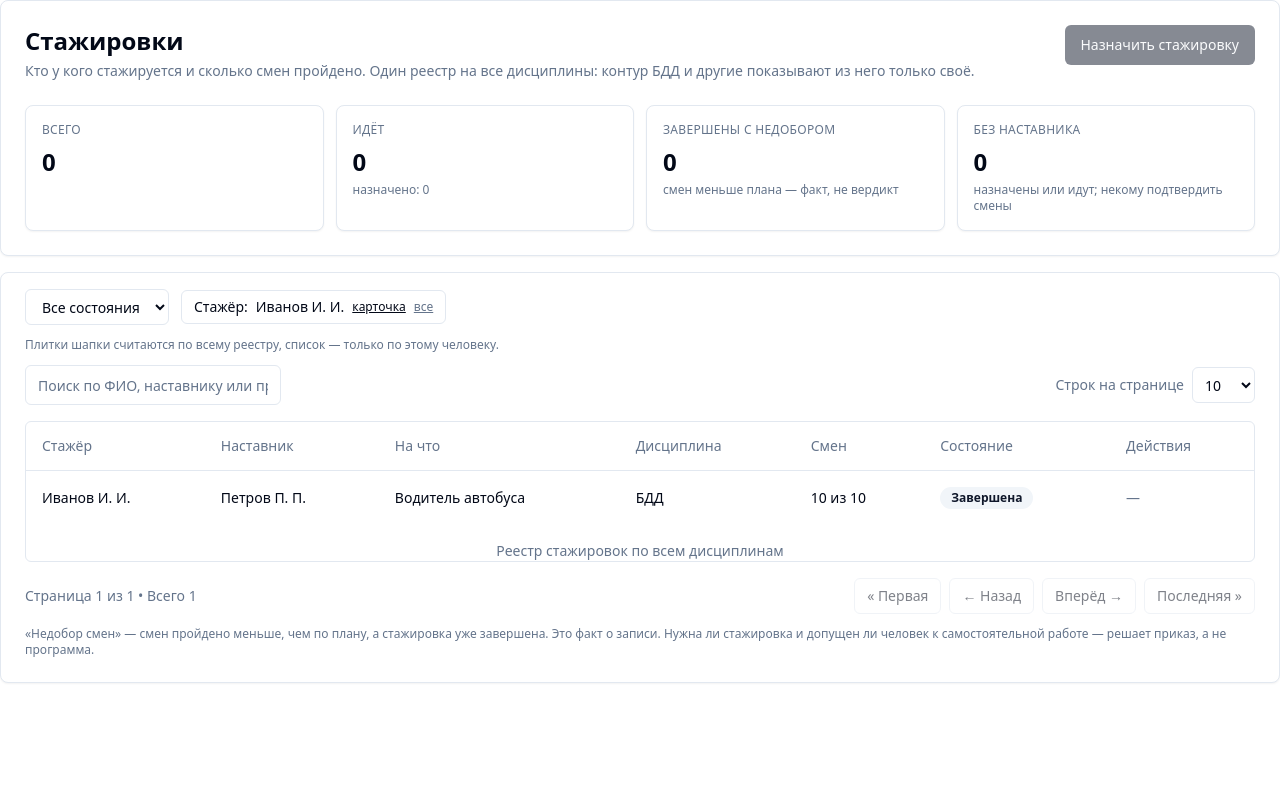
Test case: InternshipsPage — общий экран стажировок (срез-41, Доп. №1 разд. 56.2) › открывается на человеке: ?person_id уходит на сервер, плашка с именем, «все» снимает (срез-46)
The width and height of the screenshot is (1280, 800).
Check: the text "Водитель автобуса" is shown, box [379,470,620,524]
Check: the element with test id "internships-person-filter" shows "Стажёр: Иванов И. И.", box [181,290,446,324]
Click the button with aria-label "Показать всех стажёров" at [424, 307], box [414,299,433,315]
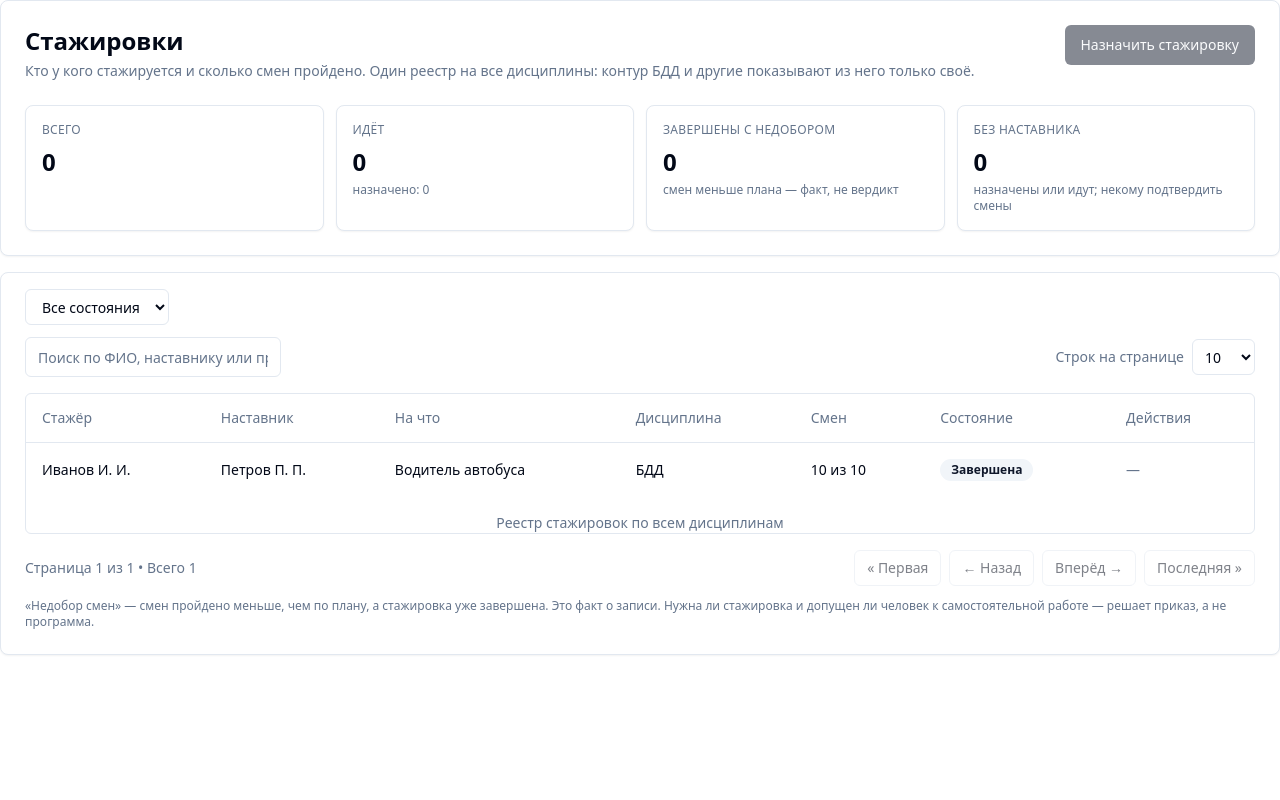
Check: the element with test id "internships-person-filter" is gone
